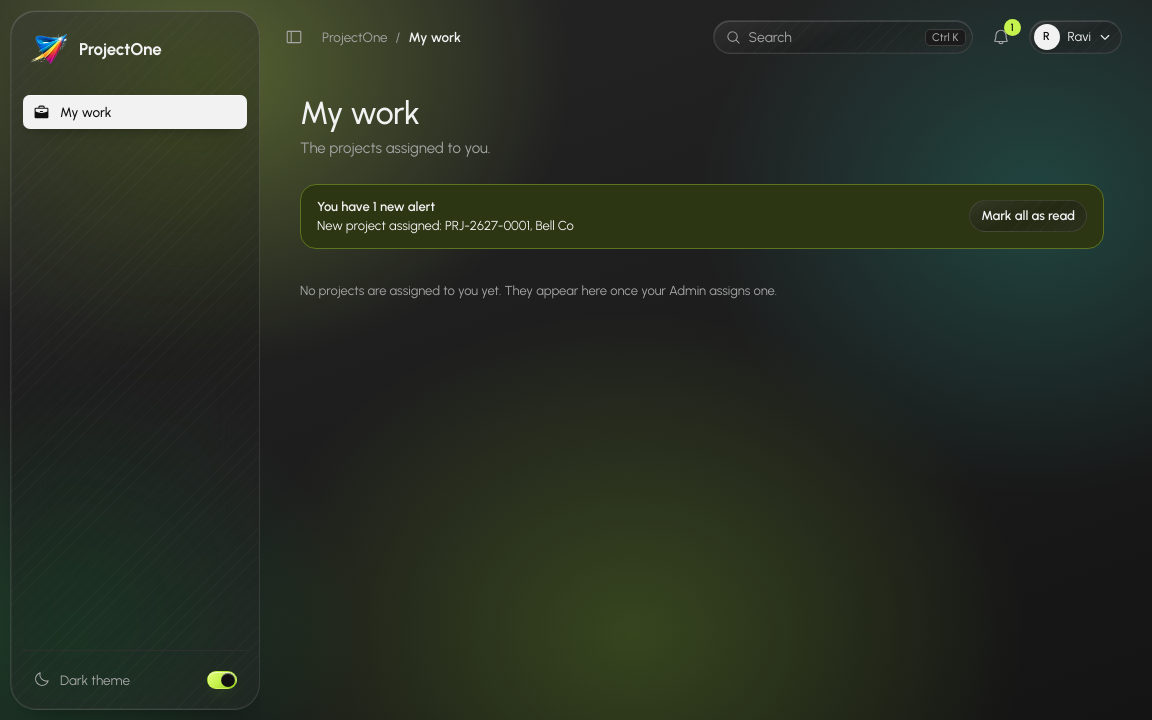
the alerts bell › shows the unread count, lists alerts newest first, and opens the project of one it marks read
The width and height of the screenshot is (1152, 720).
Click the button named "Alerts, 1 unread": x=1000, y=37 x1=984 y1=21 x2=1016 y2=53
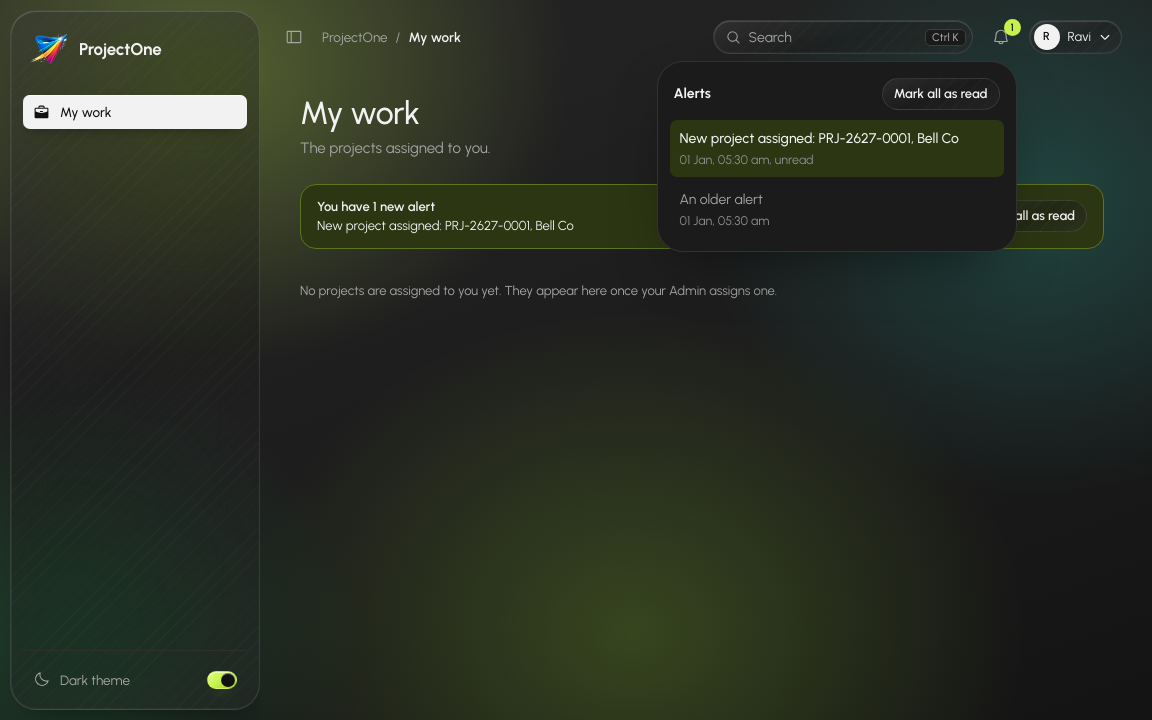
Click the button "New project assigned": x=836, y=148 x1=670 y1=120 x2=1004 y2=177
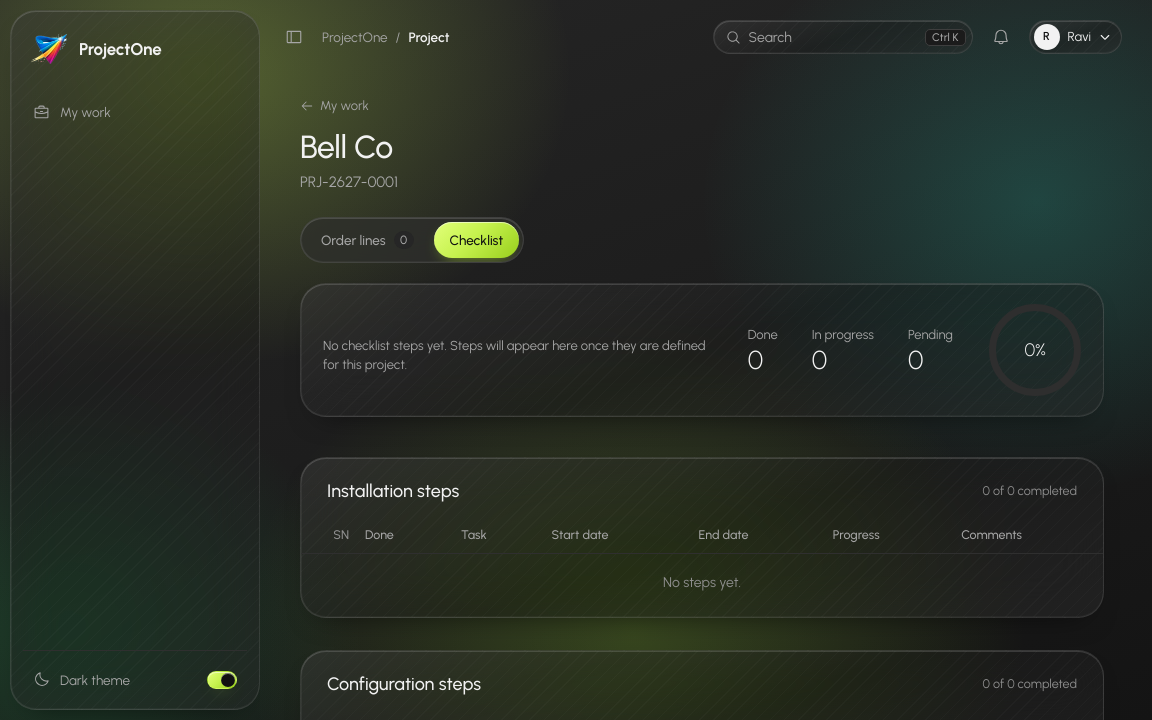
Check: the button named "Alerts" is shown, box x1=984 y1=21 x2=1016 y2=53
Check: the heading "Bell Co" is shown, box x1=300 y1=130 x2=398 y2=165
